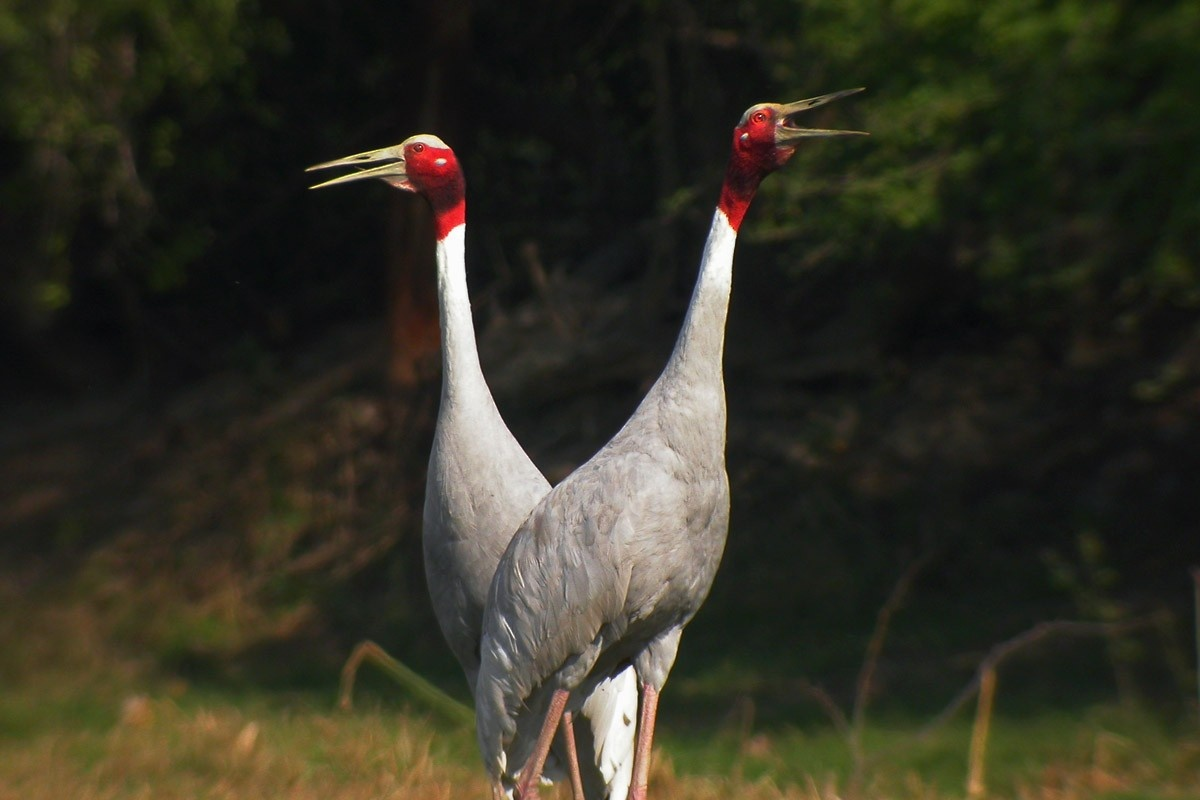crane: (456, 76, 882, 800), (289, 120, 569, 652)
